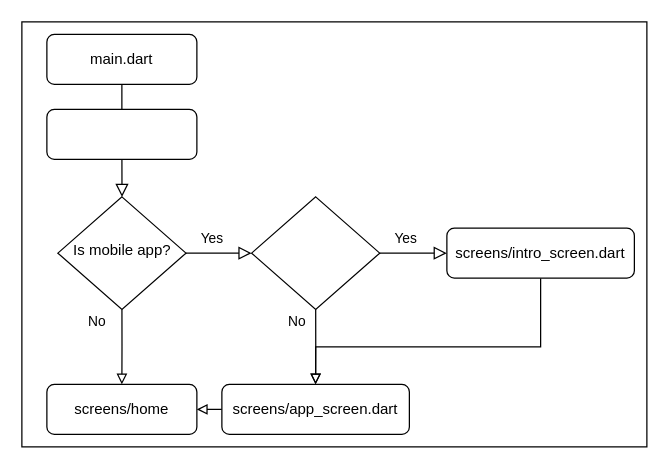
Some shapes in this 669 by 469 pixel diagram are drawn without their labels. Here are the shapes that lost their labels. From the top down, the centre of each, then its label:
At [121,133]: "widgets/app.dart".
At [315,252]: "First time running?".
